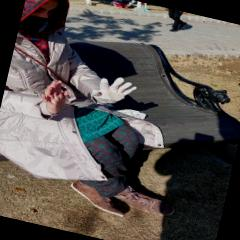gloved: (95, 74, 138, 108)
not-gloved: (36, 77, 74, 119)
